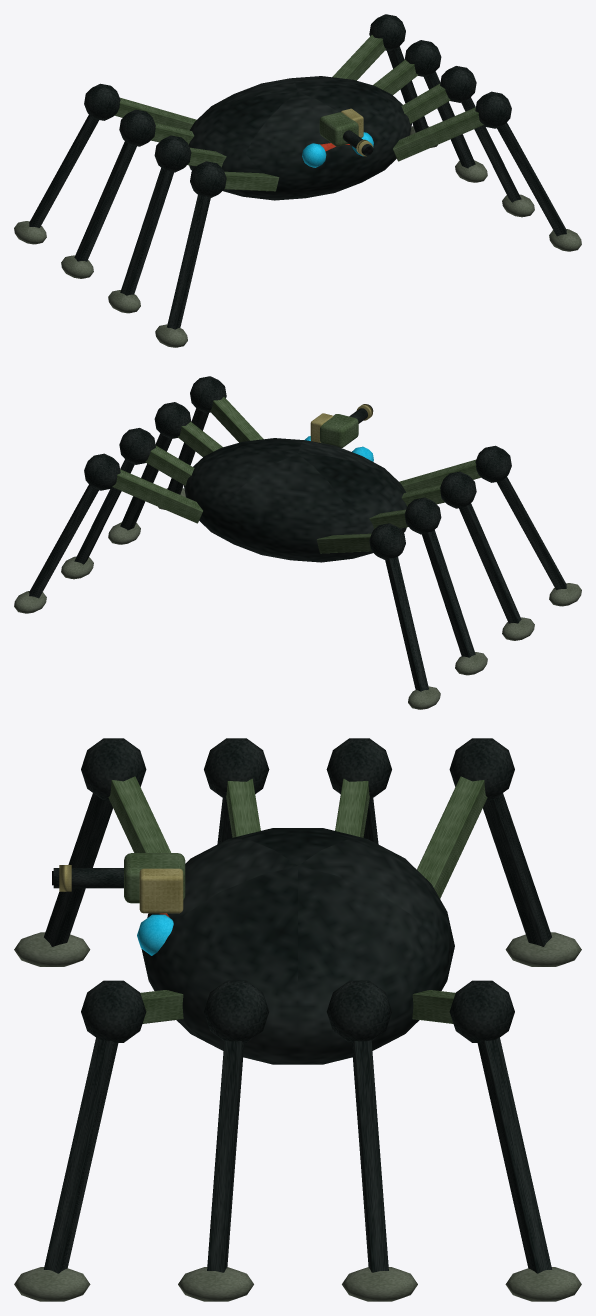
File: spider.glb
3 renders of one model, top to bottom at view 1: azimuth 30°, elevation 25°; view 2: azimuth 150°, elevation 25°; view 3: azimuth 270°, elevation 25°, orthographic. The views are drawn at different scales.
Parts seen in each view (by area): view 1: Armored spider, Leg lower, Leg lower.001, Leg upper.004, Leg lower.002, Leg lower.003, Leg lower.004, Leg lower.005, Leg upper.007, Leg knee.002, Leg knee, Leg knee.001 (+22 smaller); view 2: Armored spider, Leg lower.003, Leg lower.002, Leg upper.007, Leg lower.001, Leg lower, Leg lower.007, Leg lower.006, Leg upper.004, Leg knee.001, Leg knee.002, Leg knee.003 (+21 smaller); view 3: Armored spider, Leg lower.004, Leg lower.007, Leg lower.005, Leg lower.006, Leg upper.003, Leg lower.003, Leg lower, Leg knee.005, Leg knee.006, Leg knee.004, Leg knee.007 (+19 smaller).
Part boxes in pixels (box(x1,y1,x2,y2)): Armored spider: box(189, 76, 411, 200); Leg lower: box(167, 194, 210, 329); Leg lower.001: box(120, 168, 173, 295); Leg upper.004: box(393, 107, 483, 161); Leg lower.002: box(74, 141, 136, 261); Leg lower.003: box(29, 115, 99, 227); Leg lower.004: box(497, 122, 566, 236); Leg lower.005: box(461, 97, 521, 202); Leg upper.007: box(332, 35, 385, 80); Leg knee.002: box(119, 109, 155, 146); Leg knee: box(190, 161, 226, 198); Leg knee.001: box(154, 135, 191, 172); Armored spider: box(184, 438, 406, 562); Leg lower.003: box(385, 556, 428, 691); Leg lower.002: box(422, 530, 475, 657); Leg upper.007: box(112, 469, 202, 523); Leg lower.001: box(459, 503, 521, 623); Leg lower: box(496, 477, 566, 589); Leg lower.007: box(29, 484, 98, 598); Leg lower.006: box(74, 459, 134, 564); Leg upper.004: box(210, 397, 263, 442); Leg knee.001: box(440, 471, 476, 508); Leg knee.002: box(404, 497, 441, 534); Leg knee.003: box(369, 523, 405, 560); Armored spider: box(141, 828, 454, 1064); Leg lower.004: box(44, 1037, 118, 1273); Leg lower.007: box(477, 1037, 551, 1273); Leg lower.005: box(207, 1040, 244, 1272); Leg lower.006: box(351, 1040, 388, 1272); Leg upper.003: box(417, 776, 487, 898); Leg lower.003: box(483, 793, 551, 946); Leg lower: box(44, 793, 112, 946); Leg knee.005: box(204, 980, 269, 1042); Leg knee.006: box(326, 980, 391, 1042); Leg knee.004: box(81, 980, 146, 1042); Leg knee.007: box(449, 980, 514, 1042).
Bounding box in the file's own units: 6.16 × 2.2 × 4.16.
7 materials, 7 textured.
